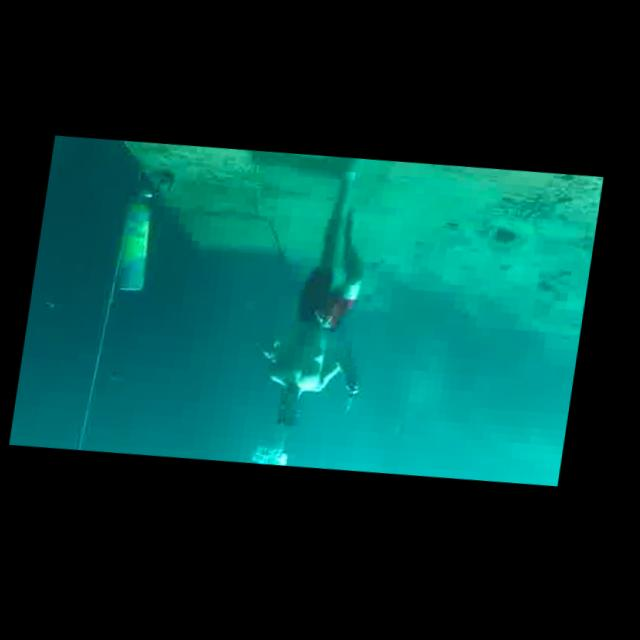human: (249, 152, 399, 444)
